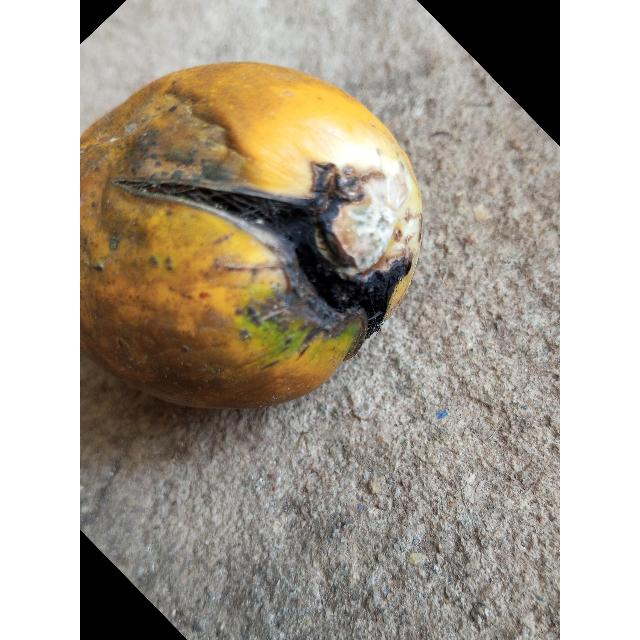damaged: (80, 61, 424, 412)
